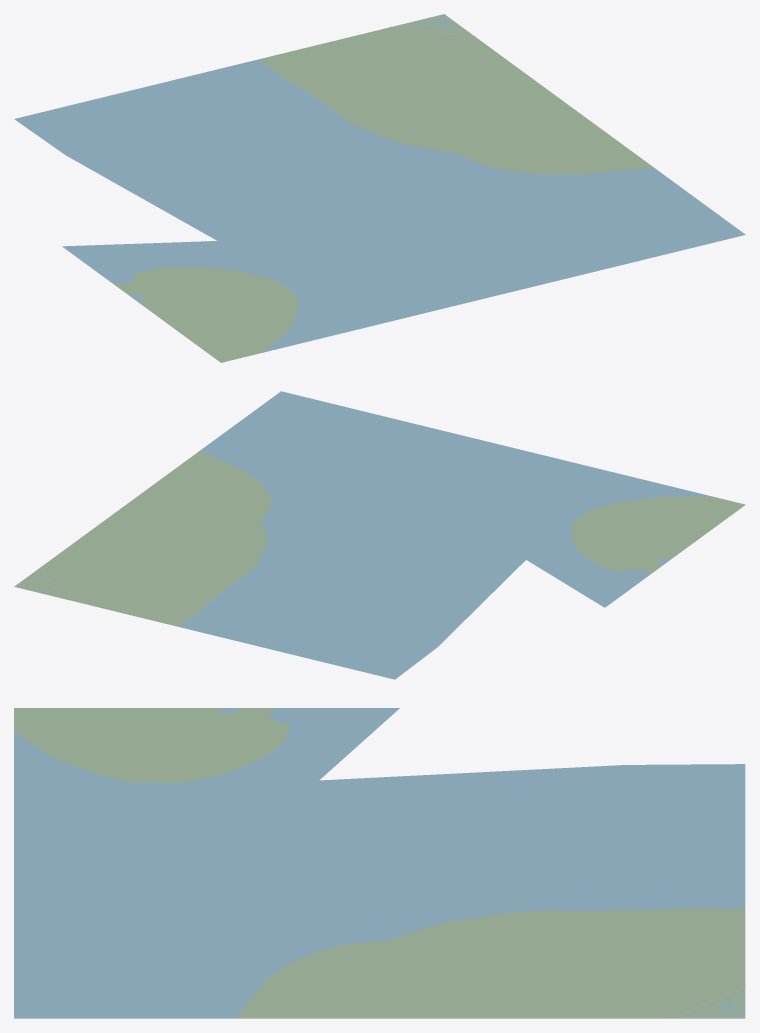
The model's file is -13_17-known-fine.glb.
The picture shows the model from 3 angles, top to bottom: view 1: azimuth 30°, elevation 25°; view 2: azimuth 150°, elevation 25°; view 3: azimuth 270°, elevation 25°; orthographic projection. The views are drawn at different scales.
Size of the model in its own units: 1001 by 0.1 by 996.
